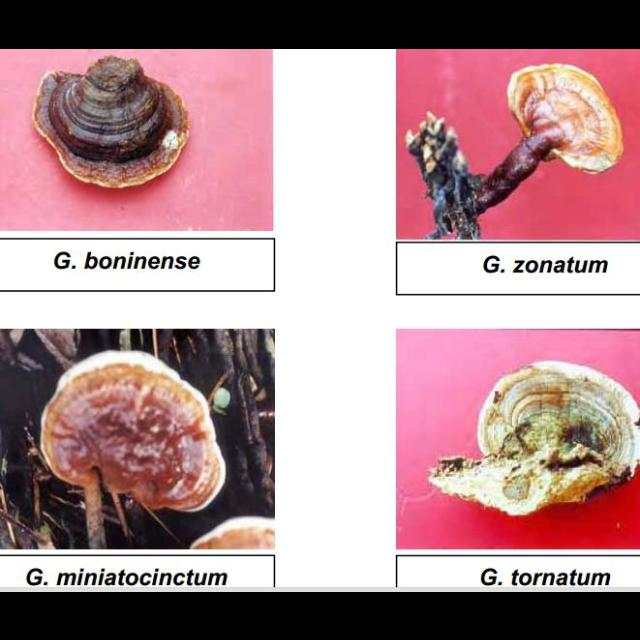ganoderma: (40, 348, 230, 515), (32, 53, 194, 191), (478, 361, 640, 492), (508, 62, 627, 177)
